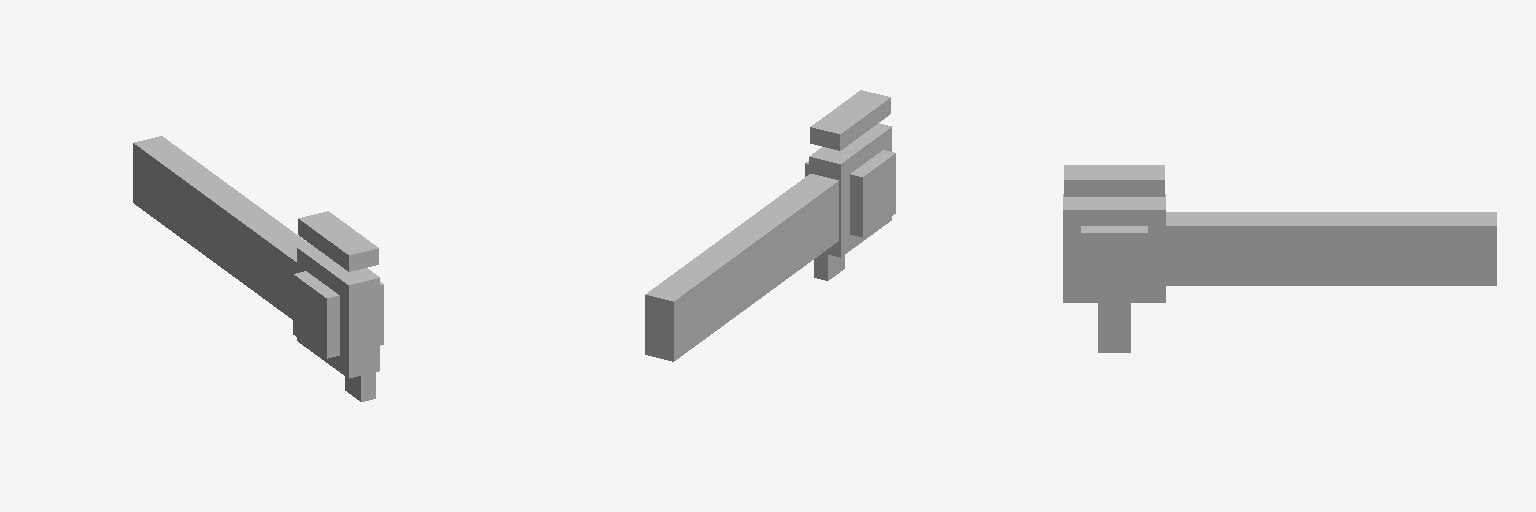
File: right_p_rod.obj
3 views of the same model, side by side, from view 1: azimuth 30°, elevation 25°; view 2: azimuth 150°, elevation 25°; view 3: azimuth 270°, elevation 25° (orthographic).
Visible parts, largest first — view 1: Rod; view 2: Rod; view 3: Rod.
Boxes of the visible parts, x1=… form: Rod: x1=133, y1=136, x2=383, y2=401; Rod: x1=645, y1=90, x2=895, y2=361; Rod: x1=1063, y1=165, x2=1496, y2=352.
Bounding box in the file's own units: 0.25 × 0.6906 × 1.63.